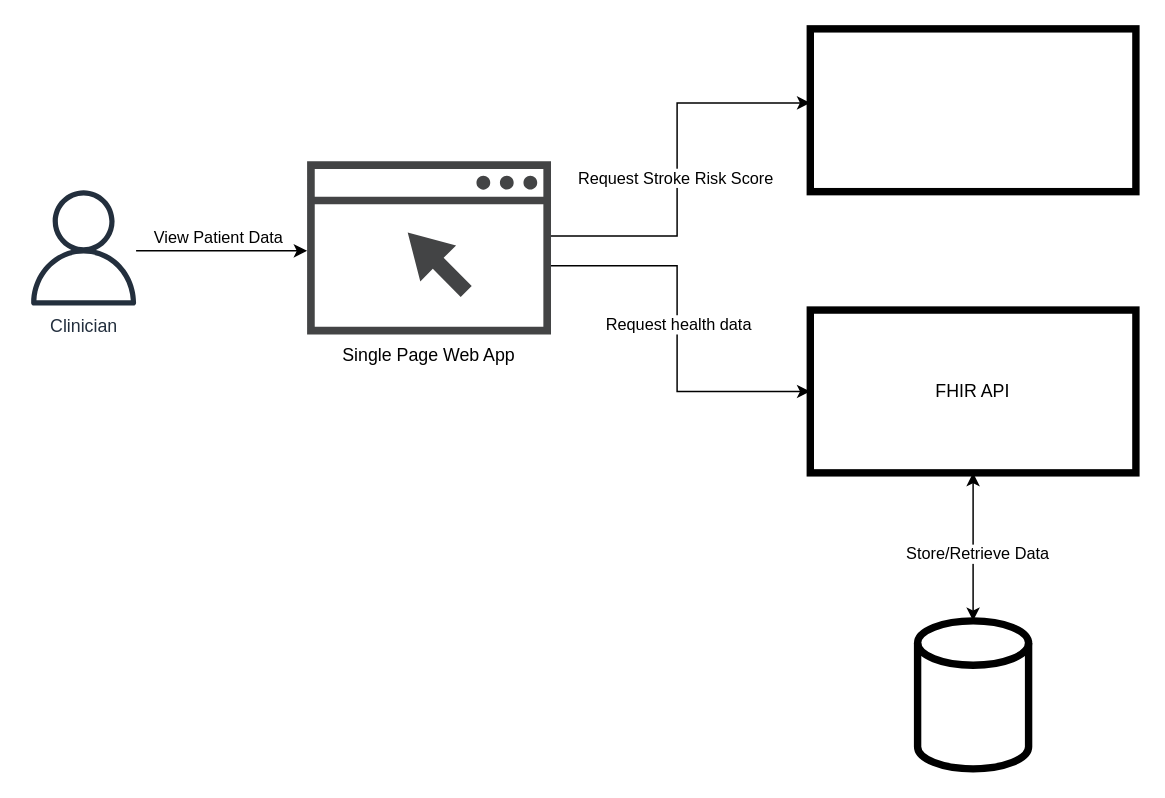
Some shapes in this 1165 by 798 pixel diagram are drawn without their labels. Here are the shapes that lost their labels. From the top down, the centre of each, then its label:
At (972,109): "Stroke Risk API".
At (972,694): "Database".
